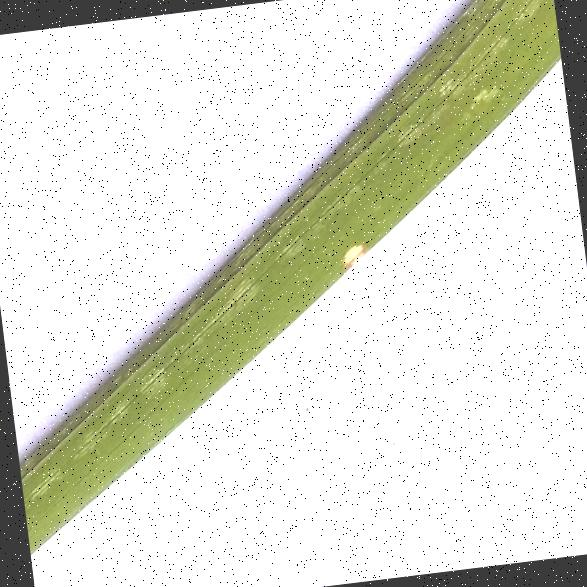Leaf_smut: (324, 219, 374, 280)
